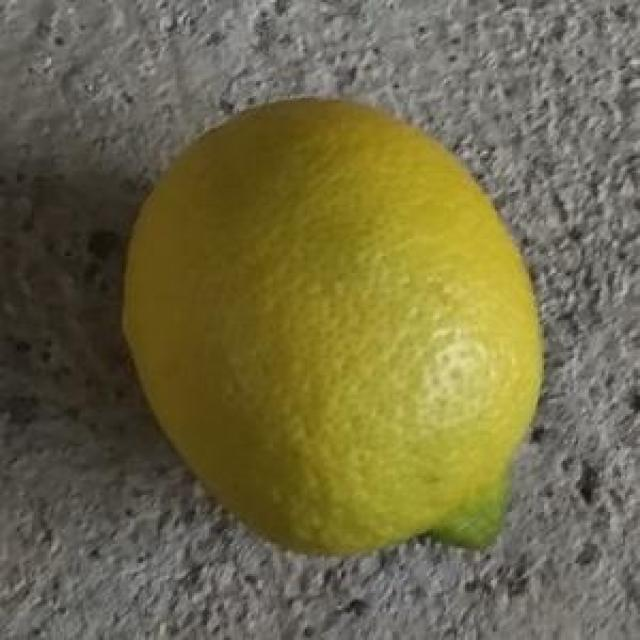lemon: (126, 92, 550, 567)
